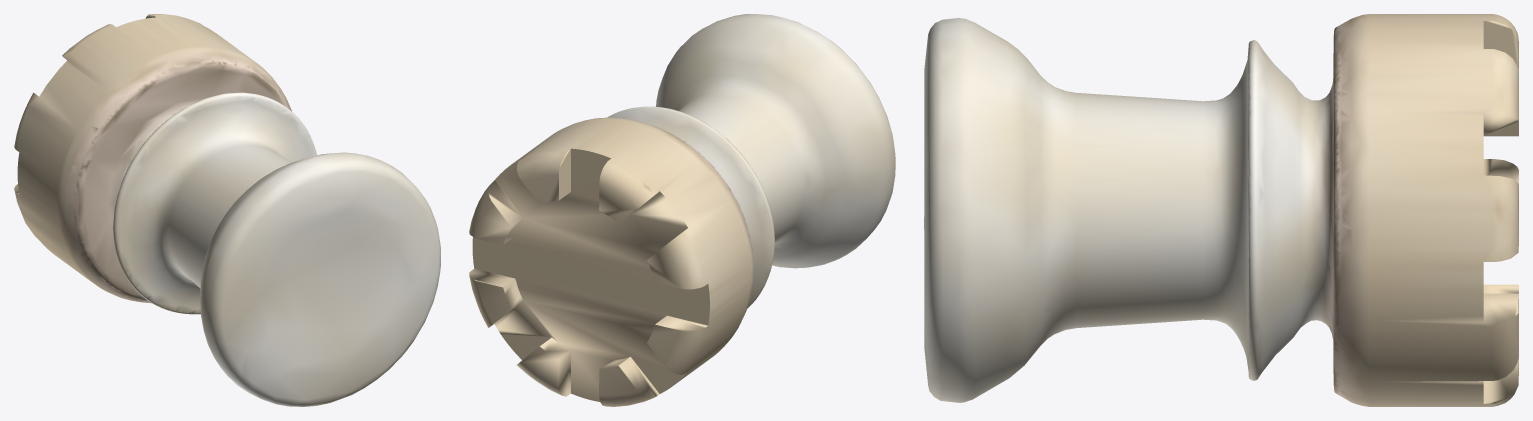
The model's file is rook-light-fallen.glb.
3 renders of one model, left to right at view 1: azimuth 30°, elevation 25°; view 2: azimuth 150°, elevation 25°; view 3: azimuth 270°, elevation 25°, orthographic. The views are drawn at different scales.
Visible parts, largest first — view 1: body; view 2: body; view 3: body.
Boxes of the visible parts, x1=… form: body: x1=14, y1=14, x2=440, y2=406; body: x1=469, y1=14, x2=895, y2=406; body: x1=924, y1=14, x2=1518, y2=406.
Size of the model in its own units: 2.24 by 2.24 by 3.39.
